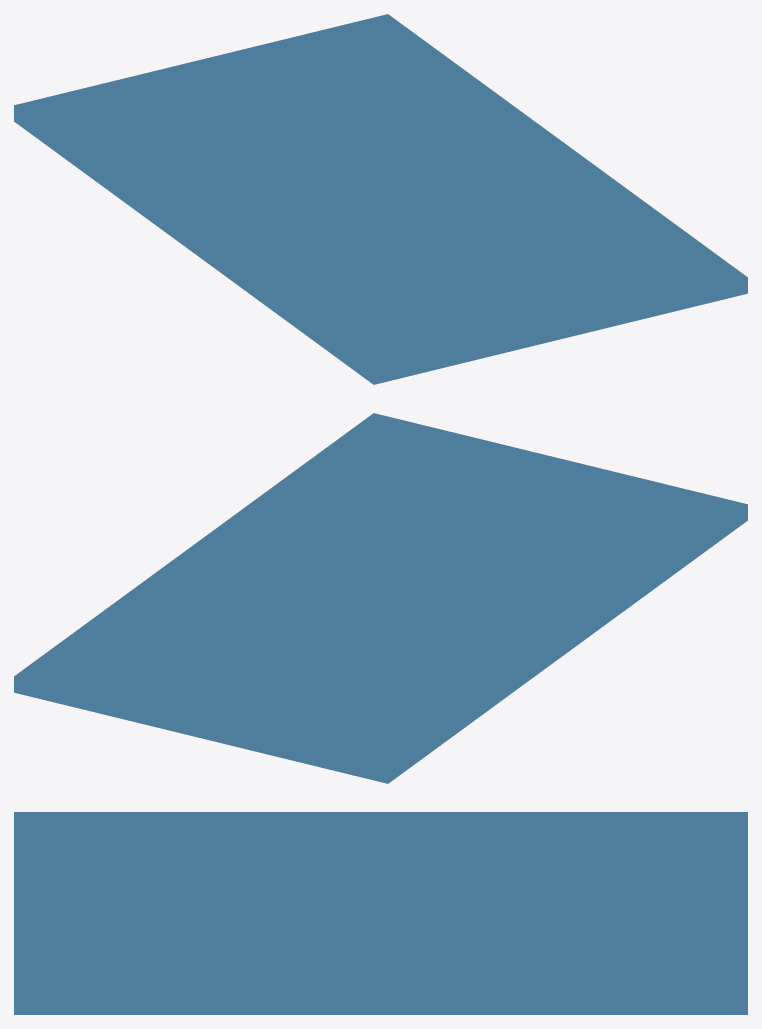
3 views of the same model, one above another, from view 1: azimuth 30°, elevation 25°; view 2: azimuth 150°, elevation 25°; view 3: azimuth 270°, elevation 25° (orthographic).
Size of the model in its own units: 734 by 30.41 by 1223.
1 material, 1 textured.
